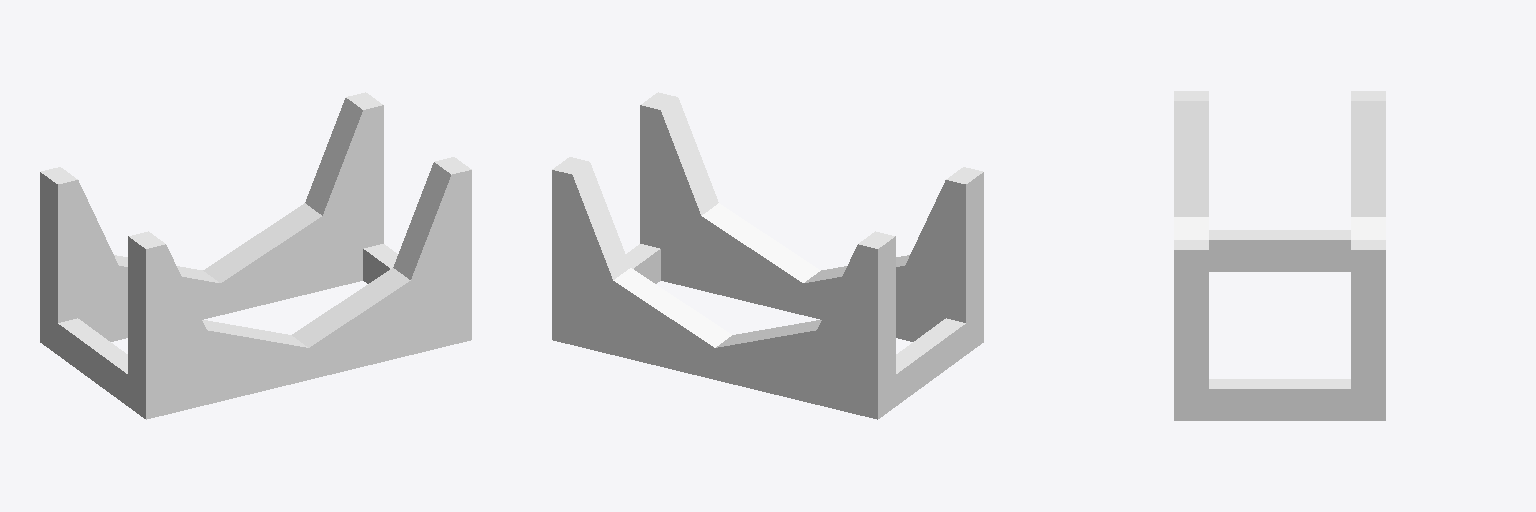
File: small_barrel_stand.obj
The picture shows the model from 3 angles: view 1: azimuth 30°, elevation 25°; view 2: azimuth 150°, elevation 25°; view 3: azimuth 270°, elevation 25°; orthographic projection.
Parts seen in each view (by area): view 1: stand2, stand1, cube, cube.000; view 2: stand1, stand2, cube, cube.000; view 3: stand1, stand2, cube, cube.000.
Boxes of the visible parts, <box> form: stand2: <box>128,157,471,419</box>; stand1: <box>40,92,383,354</box>; cube: <box>58,318,127,405</box>; cube.000: <box>363,244,397,283</box>; stand1: <box>552,157,895,419</box>; stand2: <box>640,92,983,354</box>; cube: <box>896,318,965,405</box>; cube.000: <box>626,244,660,283</box>; stand1: <box>1351,91,1385,420</box>; stand2: <box>1174,91,1208,420</box>; cube: <box>1209,230,1350,271</box>; cube.000: <box>1209,379,1350,420</box>.
Bounding box in the file's own units: 1 × 0.5 × 0.5625.